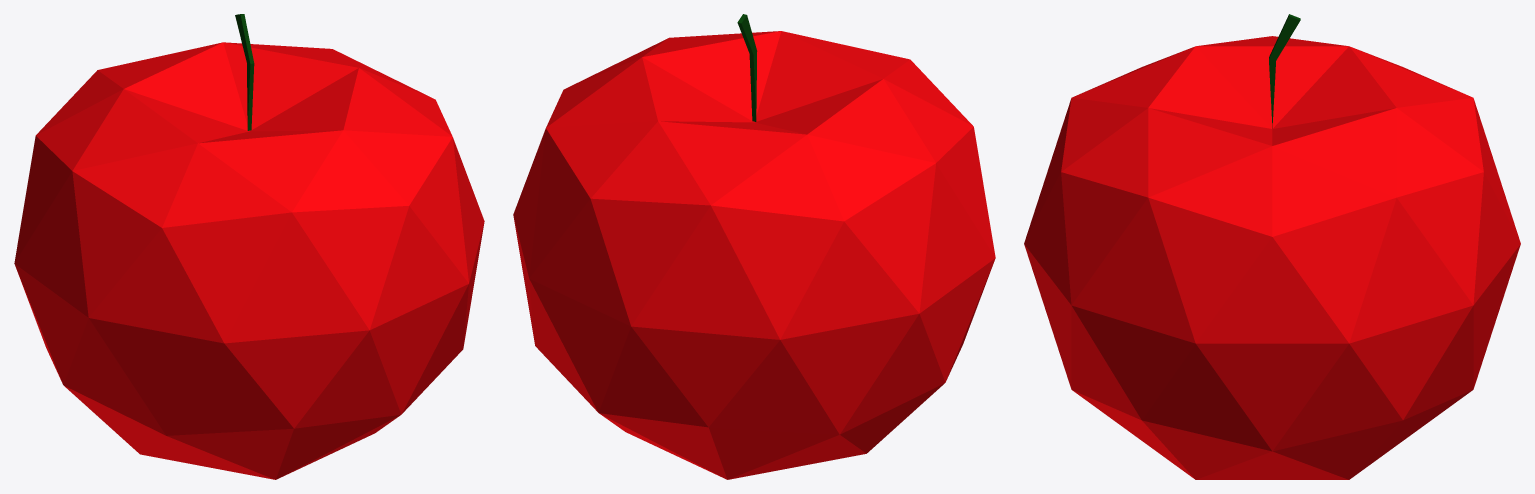
File: manzana.FBX
3 renders of one model, left to right at view 1: azimuth 30°, elevation 25°; view 2: azimuth 150°, elevation 25°; view 3: azimuth 270°, elevation 25°, orthographic. The views are drawn at different scales.
Visible parts, largest first — view 1: manzana; view 2: manzana; view 3: manzana.
Boxes of the visible parts, x1,y1,x2,y2 form: manzana: (14, 14, 484, 479); manzana: (513, 14, 995, 479); manzana: (1024, 14, 1520, 479).
Bounding box in the file's own units: 10.39 × 11.03 × 10.93.
